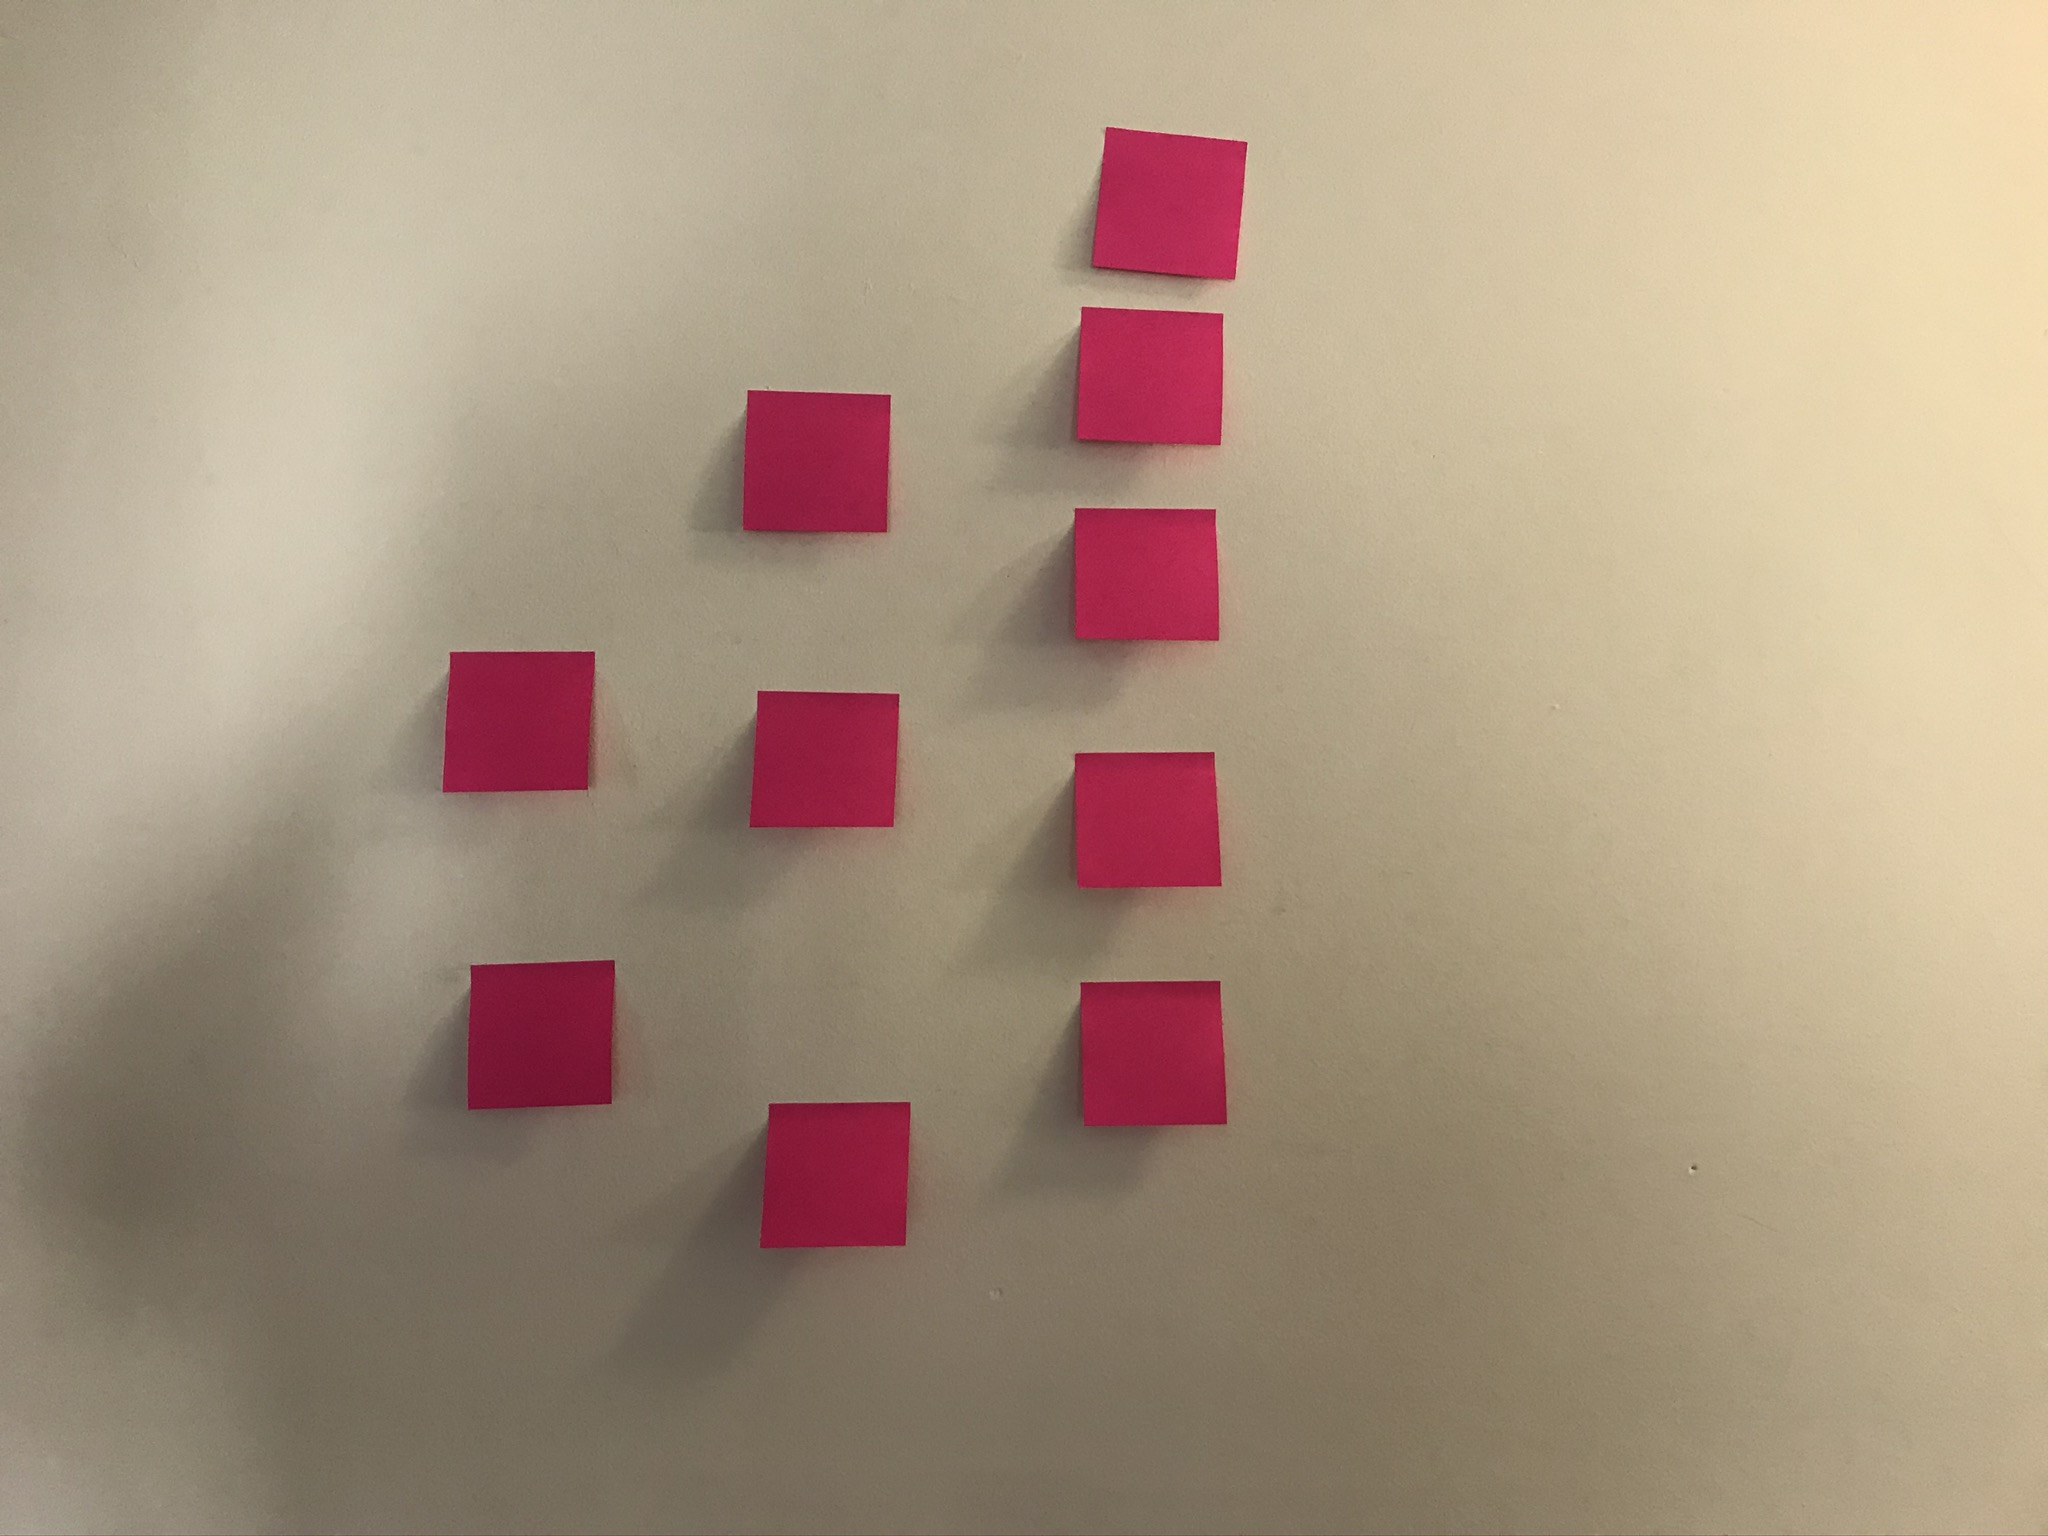sticky: (1092, 124, 1248, 282), (760, 1100, 913, 1250), (466, 962, 621, 1108), (742, 387, 893, 536), (1079, 981, 1230, 1128), (1074, 305, 1229, 445), (747, 691, 901, 831), (443, 650, 593, 792), (1071, 507, 1222, 645), (1071, 750, 1222, 886)
